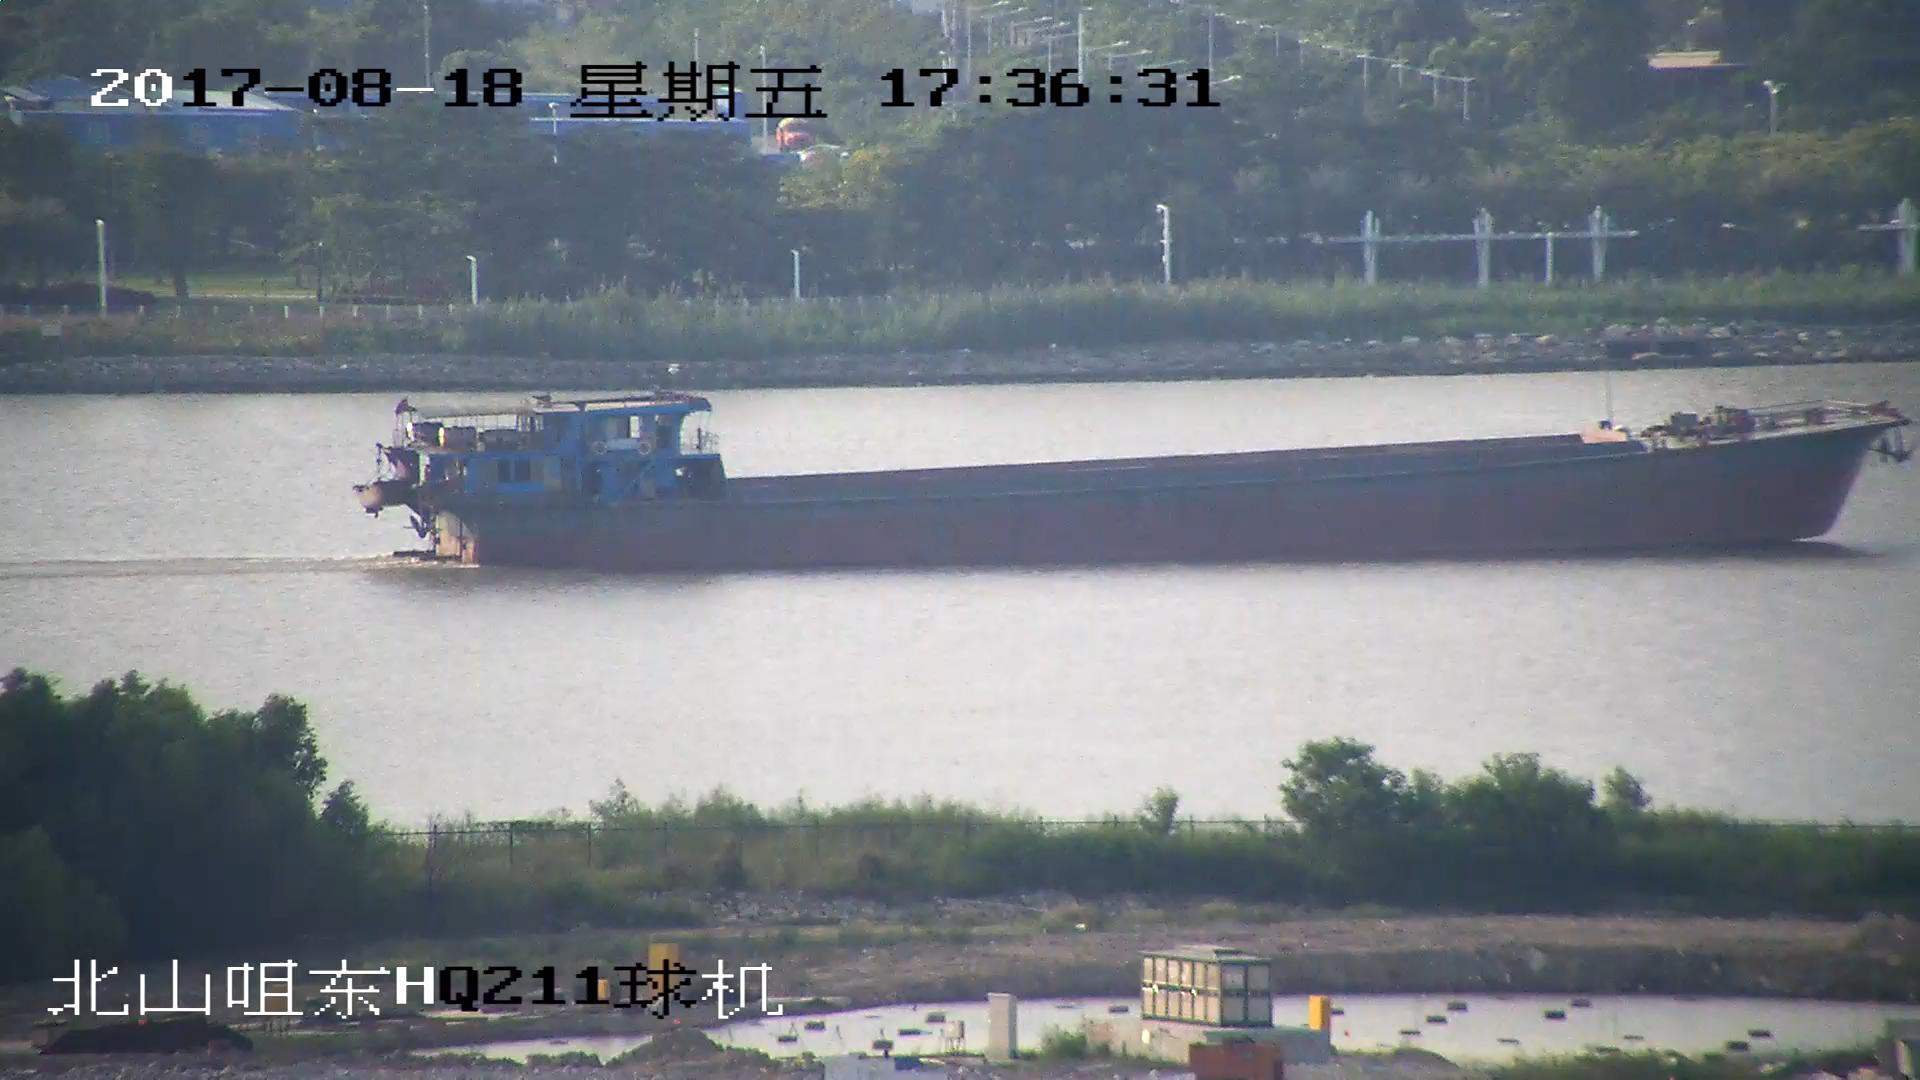bulk cargo carrier: (363, 390, 1906, 576)
